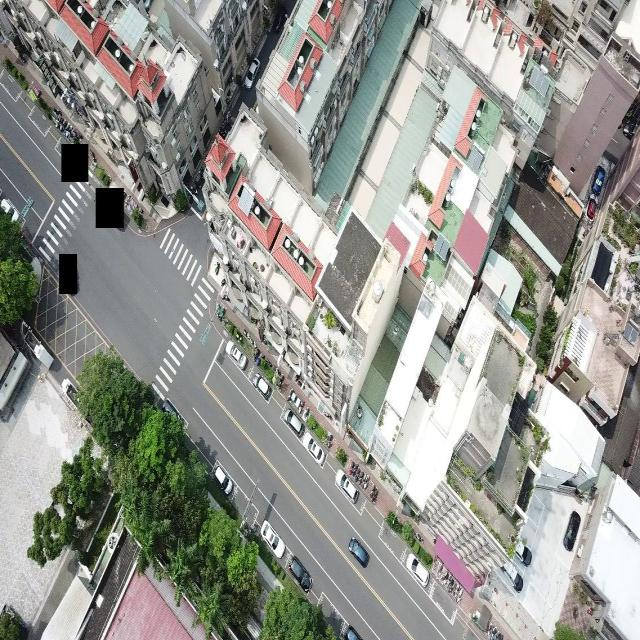bike: (414, 530, 424, 545), (256, 352, 265, 368), (364, 474, 370, 490), (327, 432, 333, 448), (324, 410, 333, 420), (370, 484, 376, 498), (372, 488, 378, 502), (359, 471, 364, 485), (355, 467, 360, 481), (251, 340, 257, 351), (362, 472, 366, 488), (349, 462, 354, 474), (247, 332, 252, 342), (242, 328, 248, 336)
car: (262, 520, 286, 558), (591, 161, 610, 209), (336, 468, 360, 504), (563, 509, 582, 550), (291, 556, 313, 591), (499, 561, 523, 593), (409, 552, 430, 586), (281, 407, 305, 436), (213, 461, 234, 494), (304, 432, 324, 464), (348, 536, 369, 566), (226, 340, 247, 370), (254, 373, 273, 403), (245, 58, 260, 89), (514, 544, 532, 568), (0, 199, 17, 222), (622, 120, 640, 139), (344, 624, 362, 640)
